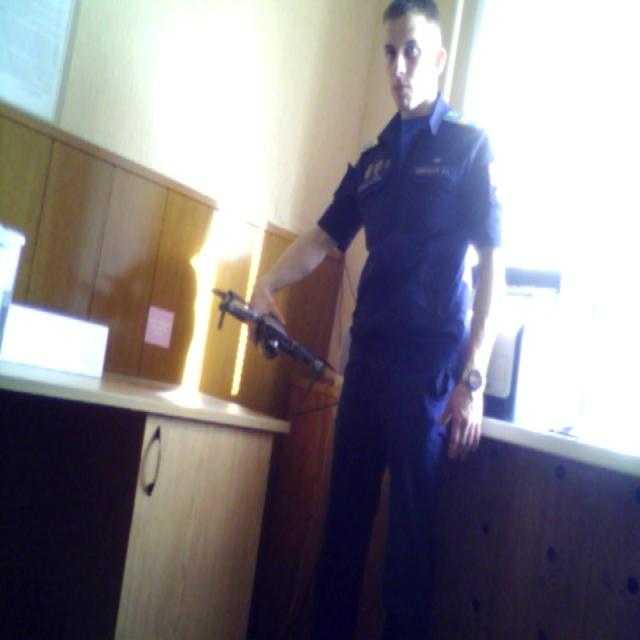drone: (205, 276, 342, 408)
